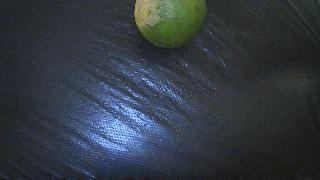DESECHO: (134, 0, 206, 48)
